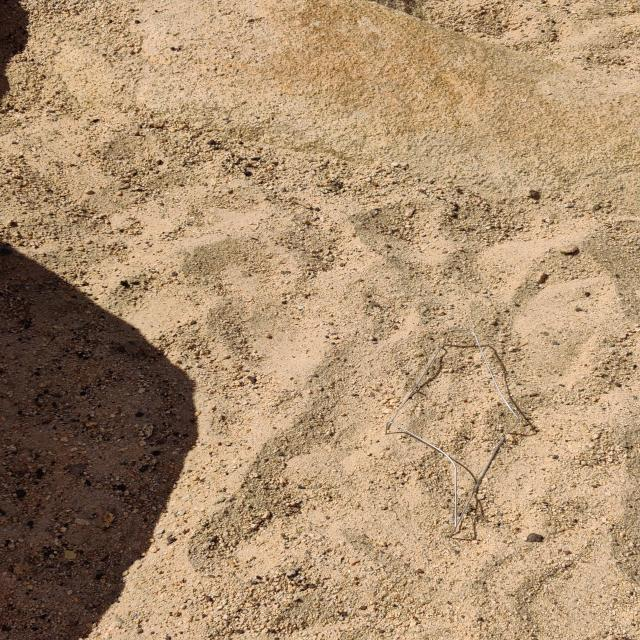litter: (369, 295, 540, 548)
